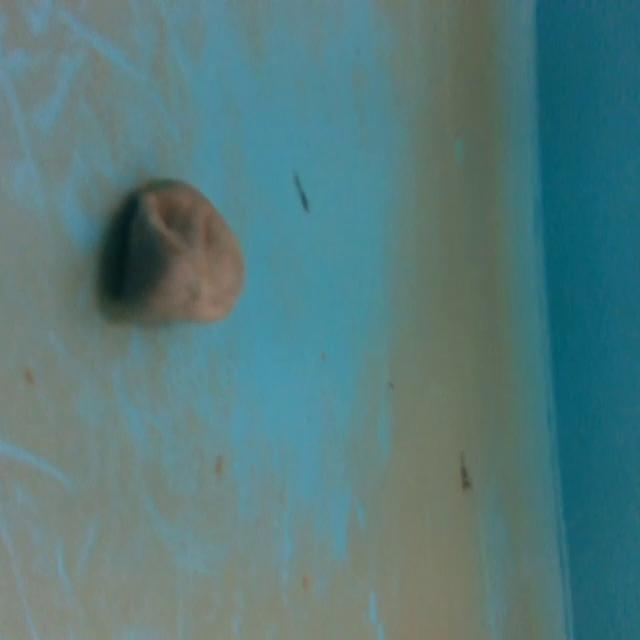rock: (96, 172, 251, 334)
